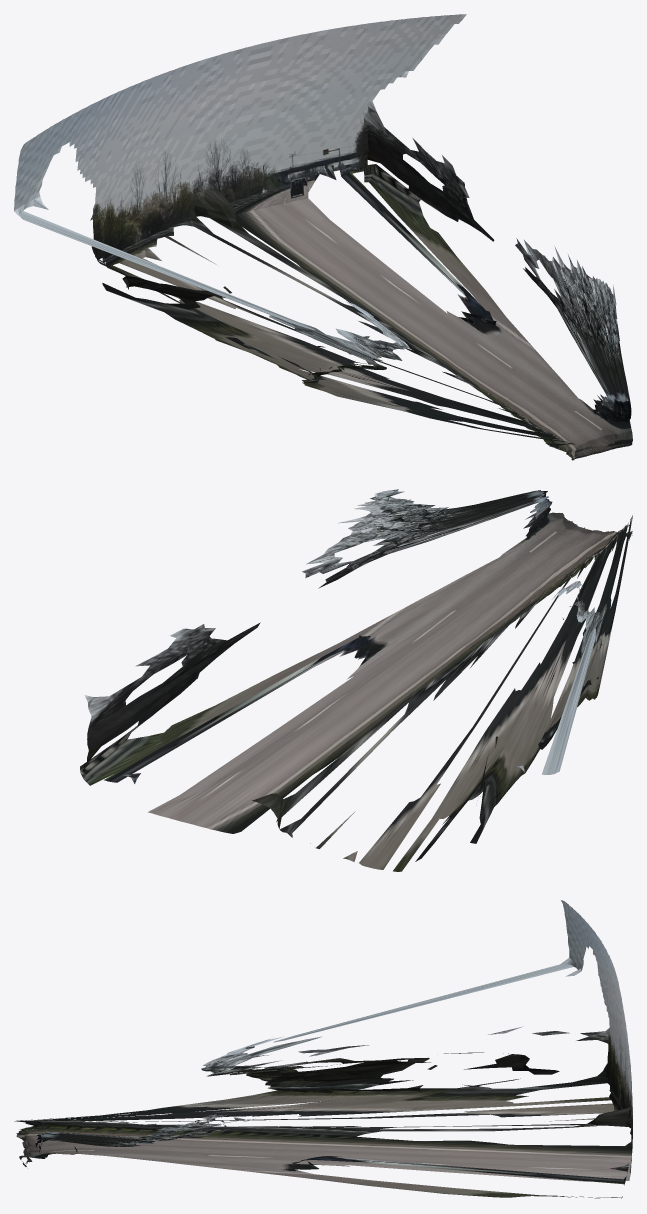
3 renders of one model, top to bottom at view 1: azimuth 30°, elevation 25°; view 2: azimuth 150°, elevation 25°; view 3: azimuth 270°, elevation 25°, orthographic. The views are drawn at different scales.
Parts seen in each view (by area): view 1: defaultobject; view 2: defaultobject; view 3: defaultobject.
Part boxes in pixels (x1,y1,x2,y2): defaultobject: [14, 14, 632, 460]; defaultobject: [80, 489, 632, 871]; defaultobject: [14, 900, 632, 1198].
Size of the model in its own units: 34.58 by 12.76 by 44.87.
1 material, 1 textured.
